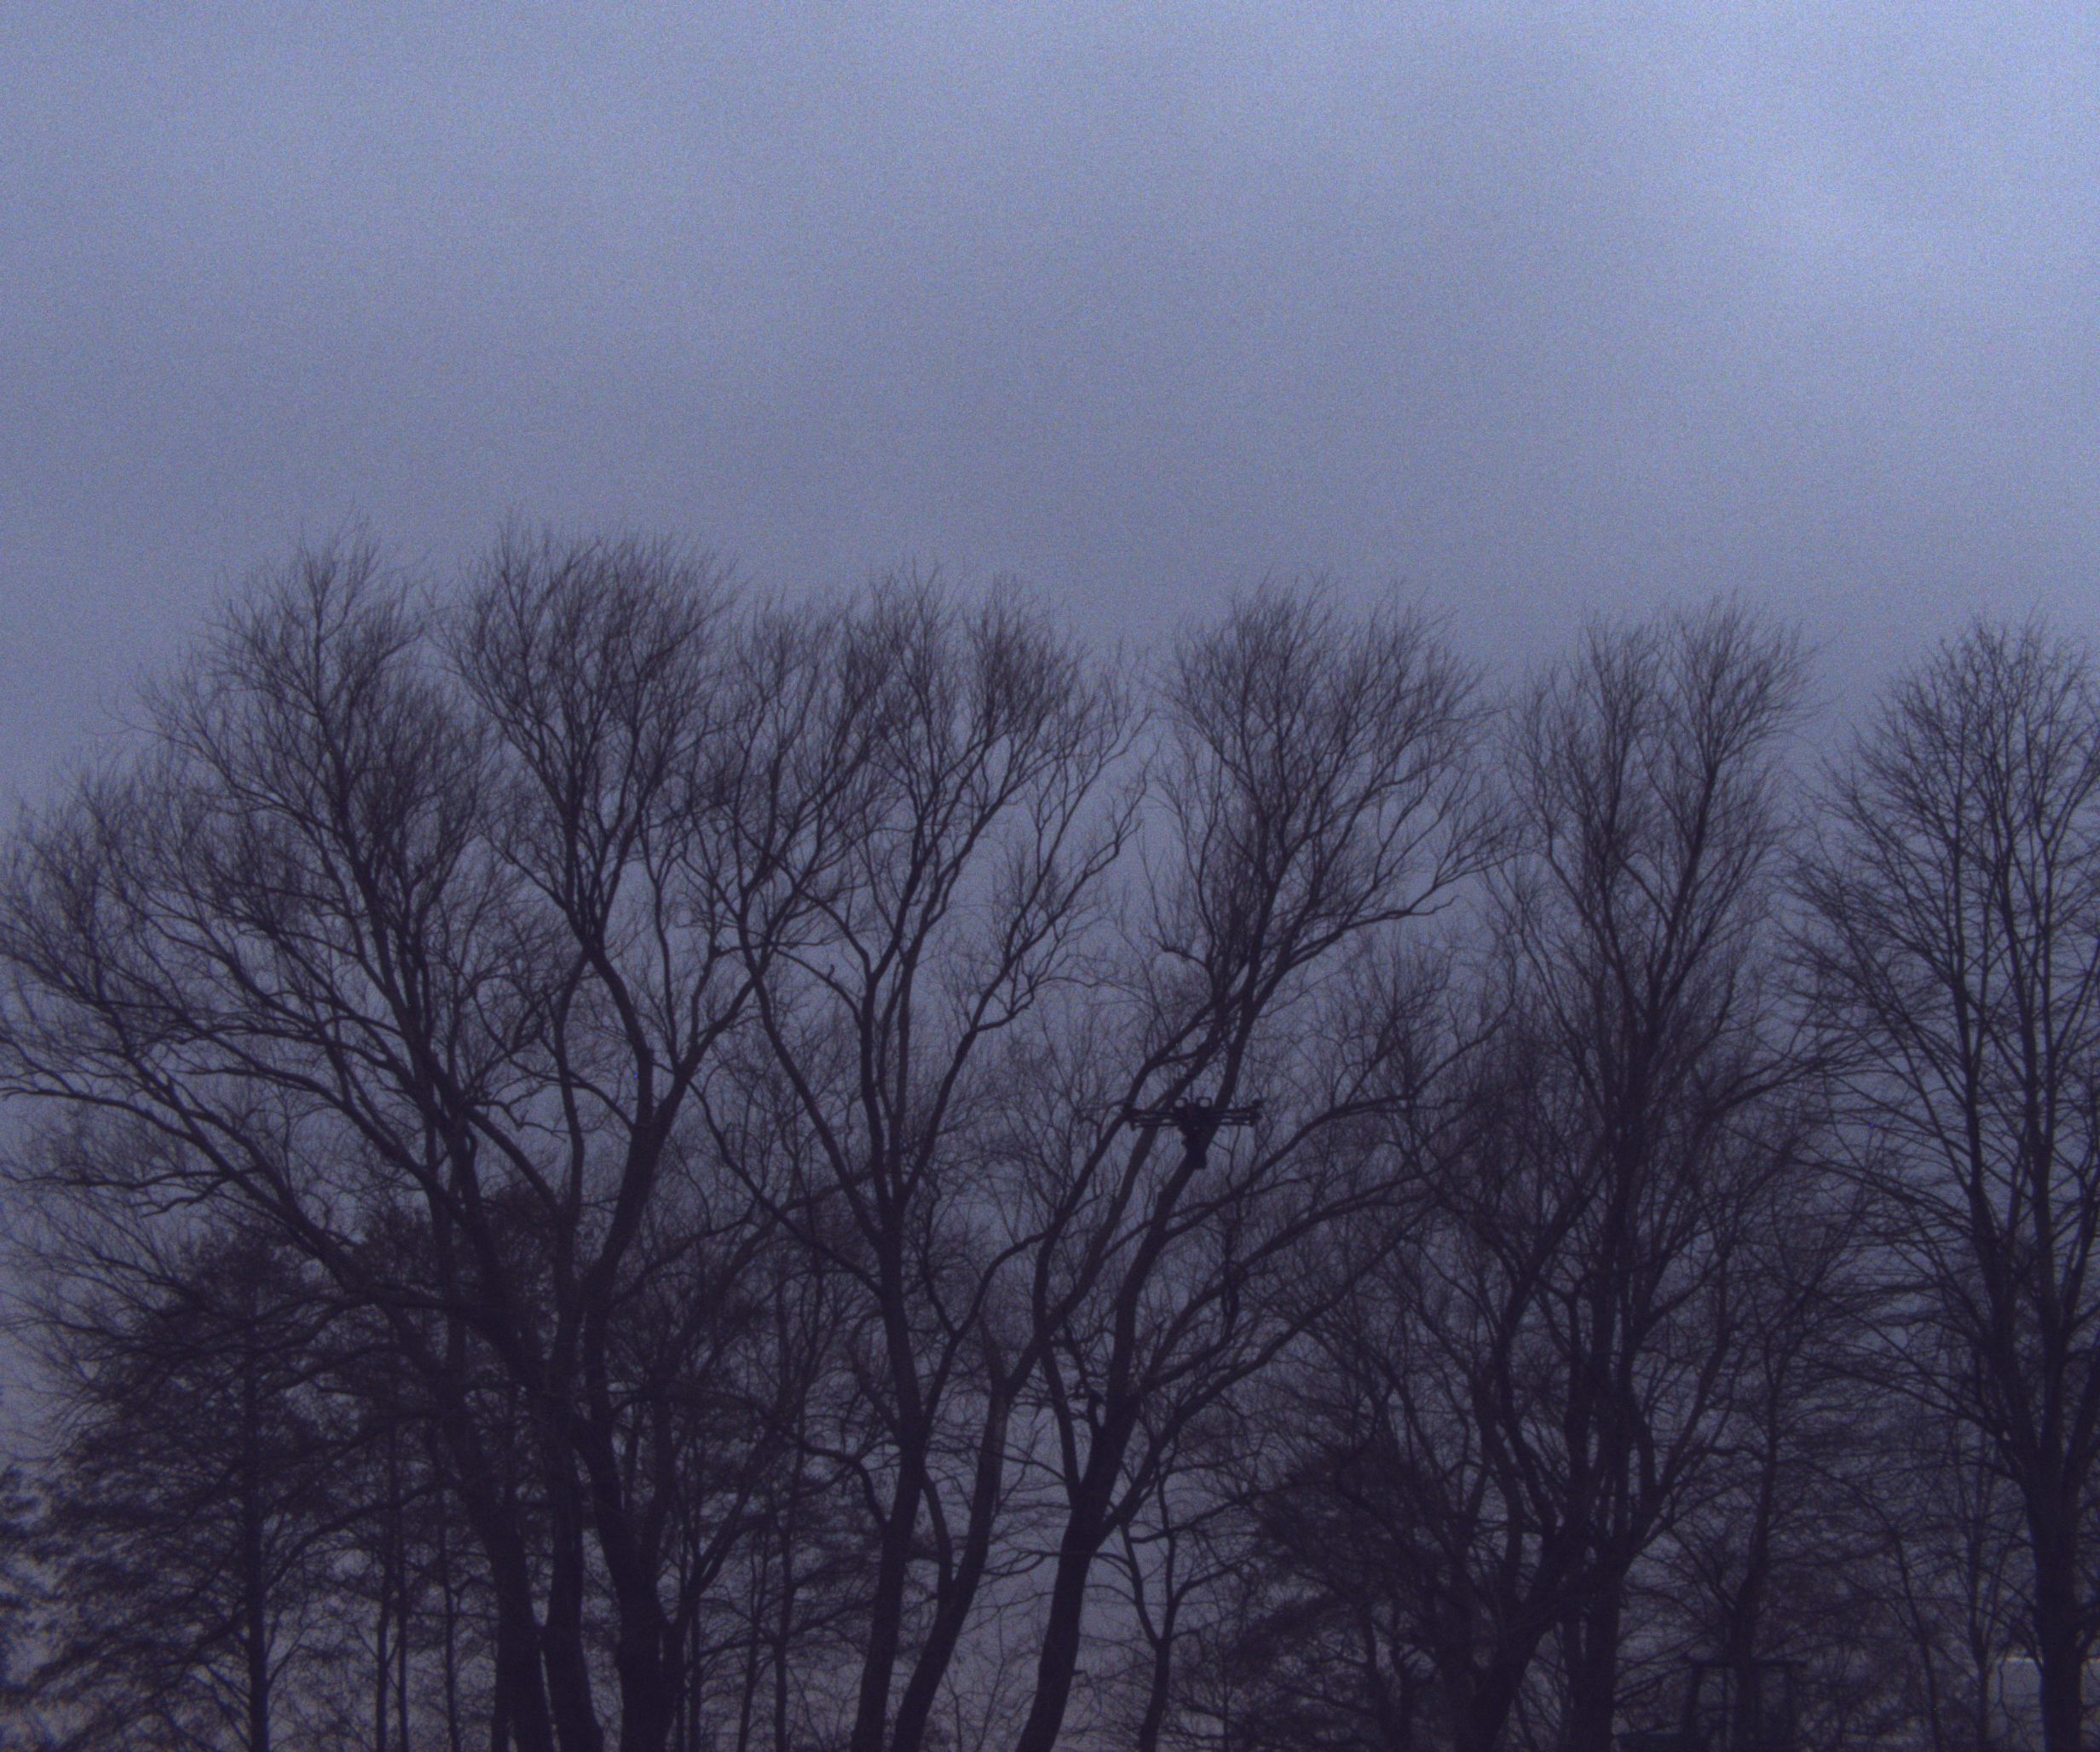Drohne: (1076, 1063, 1291, 1196)
